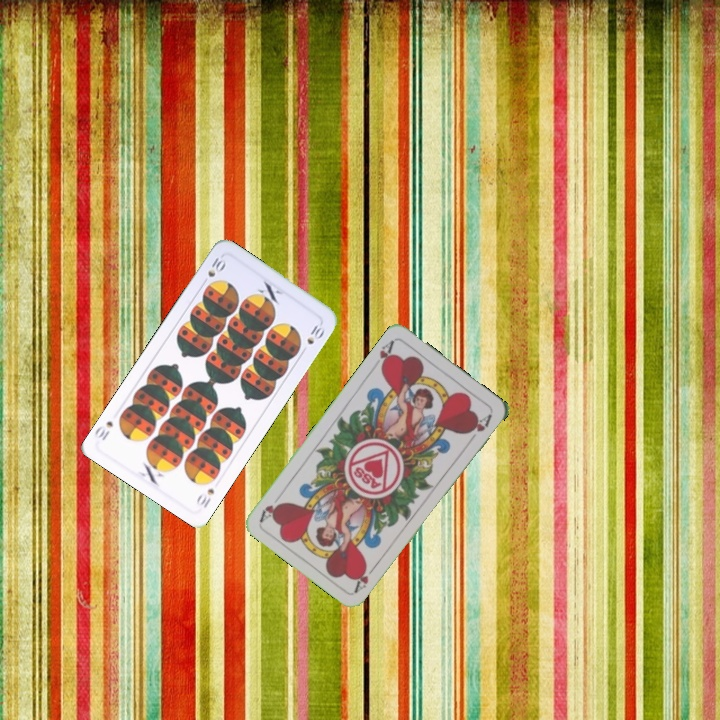HA: (350, 560, 380, 595), (375, 335, 397, 373)
S10: (198, 252, 229, 288), (192, 484, 217, 510)
